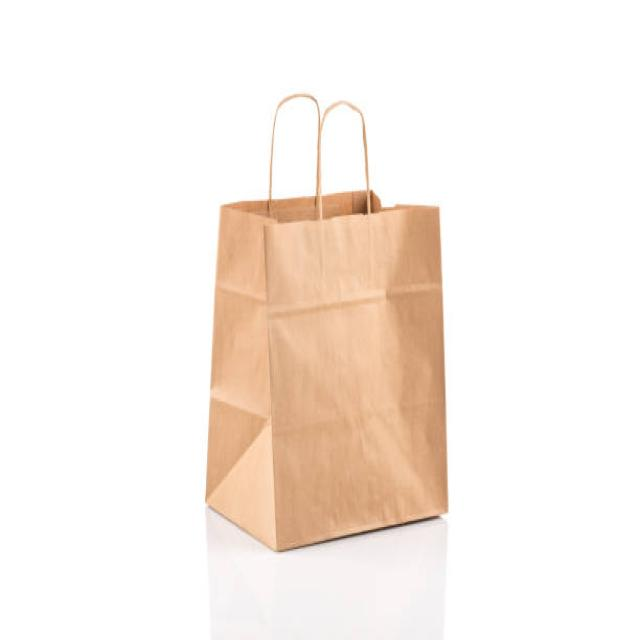electronic: (204, 93, 449, 552)
